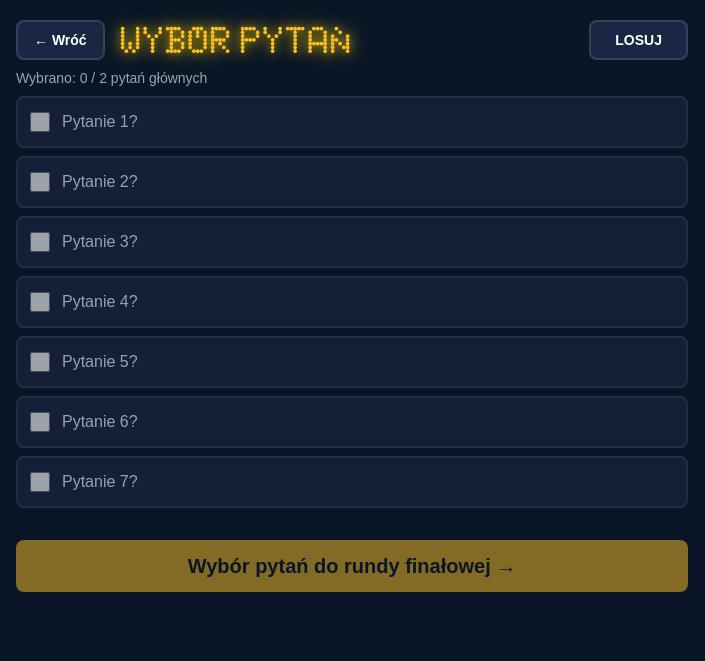
Test: QuestionSelectionScreen › should reorder selected questions using up/down buttons
Click the checkbox next to "Pytanie 1?" at (40, 122), box 30,112 -> 50,132
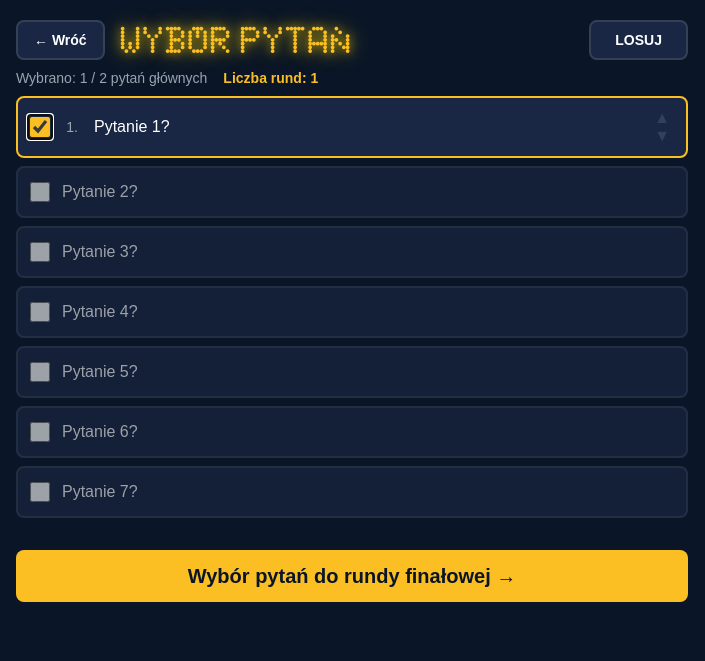
Click the checkbox next to "Pytanie 2?" at (40, 192), box 30,182 -> 50,202
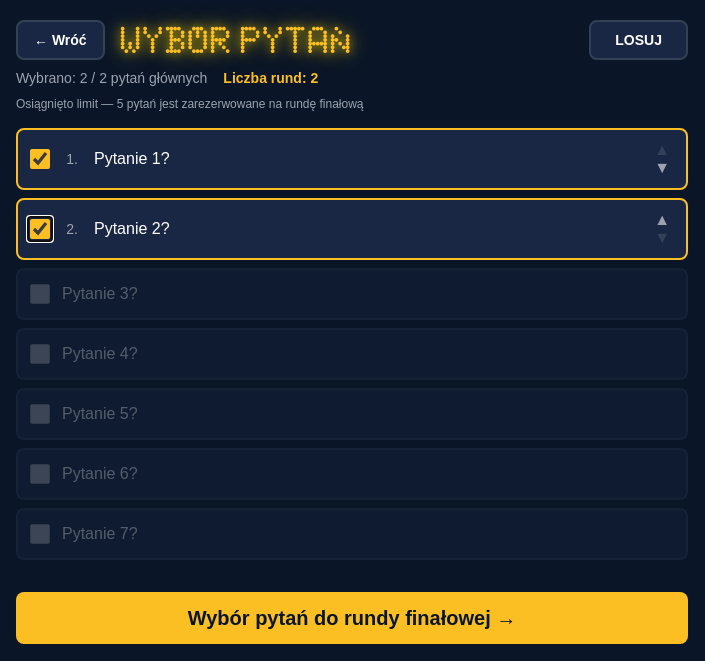
Note: Q1 is 1st, Q2 is 2nd — move Q2 up
Click the button named "Przesuń w górę" at (662, 220), box 650,212 -> 674,228
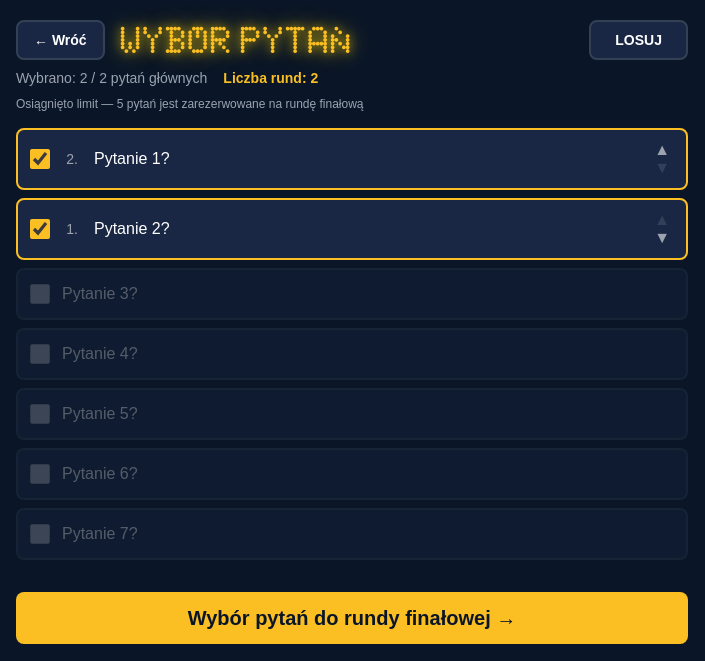
Expected: the text "2." is shown 2 times, 66,151 -> 78,167; 66,221 -> 78,237
Expected: the list item "1. Pytanie 2? ▲ ▼" is shown, 16,198 -> 688,260
Expected: the list item "2. Pytanie 1? ▲ ▼" is shown, 16,128 -> 688,190
